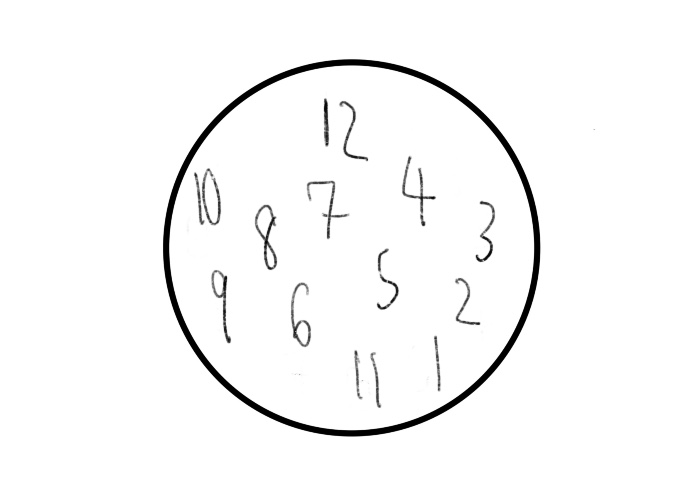eight: (250, 201, 281, 270)
eleven: (349, 346, 384, 412)
five: (374, 247, 399, 314)
four: (401, 156, 436, 233)
nine: (206, 268, 234, 344)
one: (429, 333, 447, 395)
seven: (301, 176, 351, 242)
six: (287, 277, 314, 350)
ten: (192, 169, 222, 226)
three: (475, 194, 498, 263)
twelve: (319, 98, 369, 159)
two: (452, 273, 485, 327)
